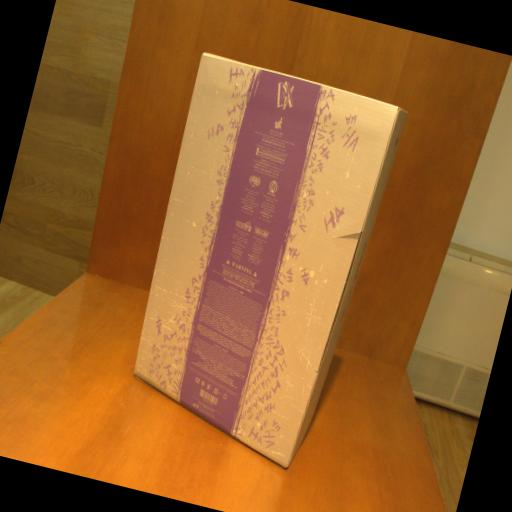Joker: (108, 48, 410, 478)
